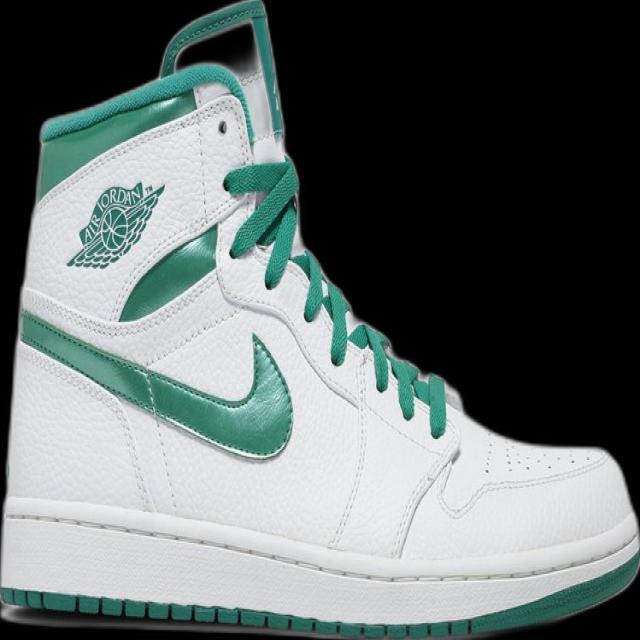J1_InsoleChar: (0, 0, 639, 639)
J1_ShoeLogo: (22, 1, 452, 460), (65, 179, 165, 269)
J1_StitchPattern: (221, 153, 450, 439), (1, 502, 638, 589), (17, 307, 295, 461), (288, 247, 449, 437), (0, 586, 473, 639), (346, 320, 449, 438), (222, 153, 302, 289), (388, 442, 462, 560), (291, 248, 352, 365)
